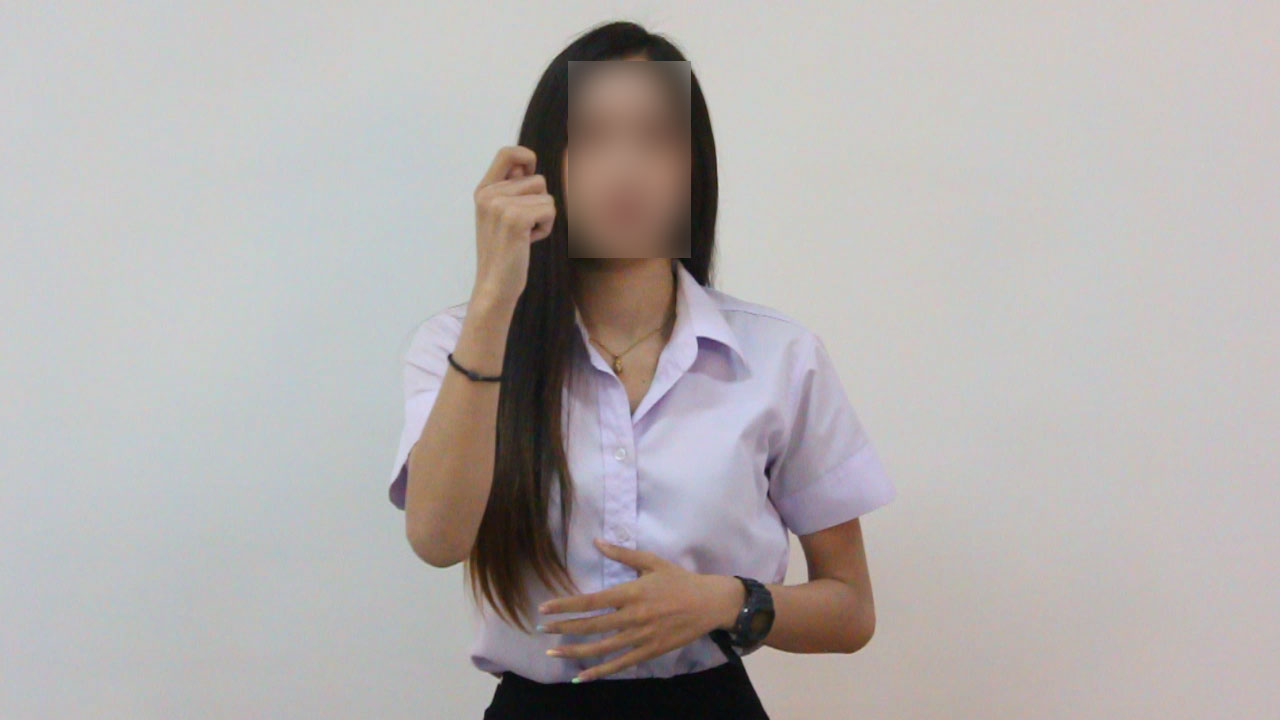or: (464, 140, 562, 317)
